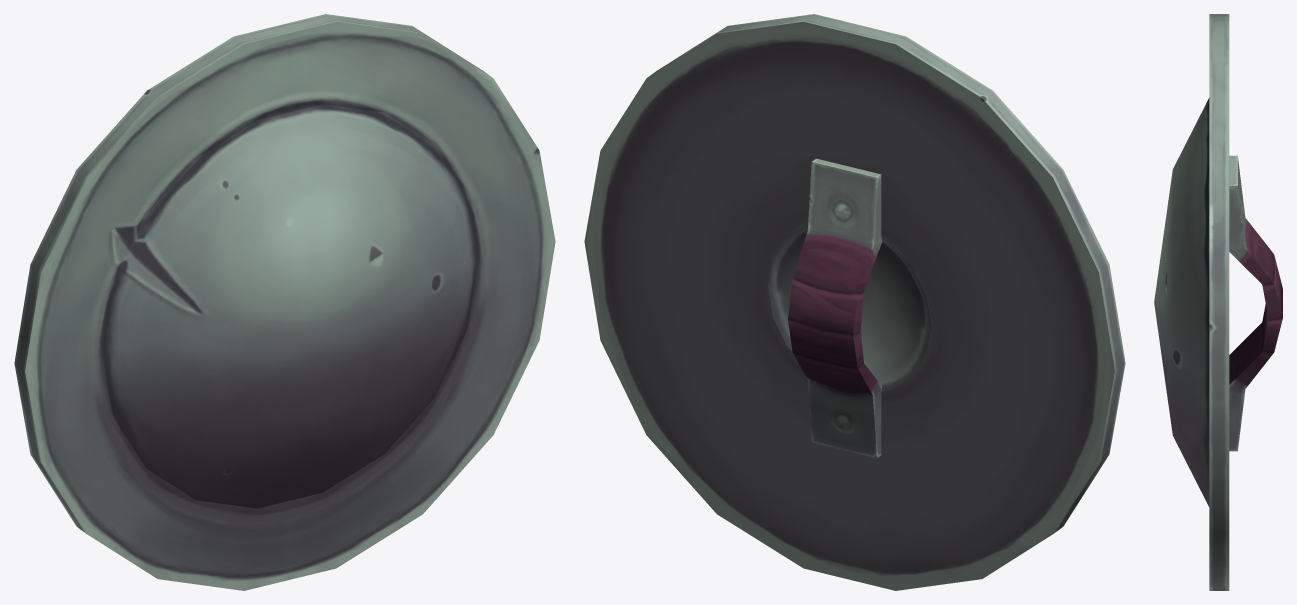
Rendered from shield.fbx.
3 renders of one model, left to right at view 1: azimuth 30°, elevation 25°; view 2: azimuth 150°, elevation 25°; view 3: azimuth 270°, elevation 25°, orthographic. The views are drawn at different scales.
Parts seen in each view (by area): view 1: Shield; view 2: Shield, ShieldHandle; view 3: Shield, ShieldHandle.
Boxes of the visible parts, <box> form: Shield: <box>14,14,555,590</box>; Shield: <box>584,14,1125,590</box>; ShieldHandle: <box>788,158,882,458</box>; Shield: <box>1154,14,1229,590</box>; ShieldHandle: <box>1229,155,1282,451</box>.
Bounding box in the file's own units: 72.25 × 71.16 × 16.06.
